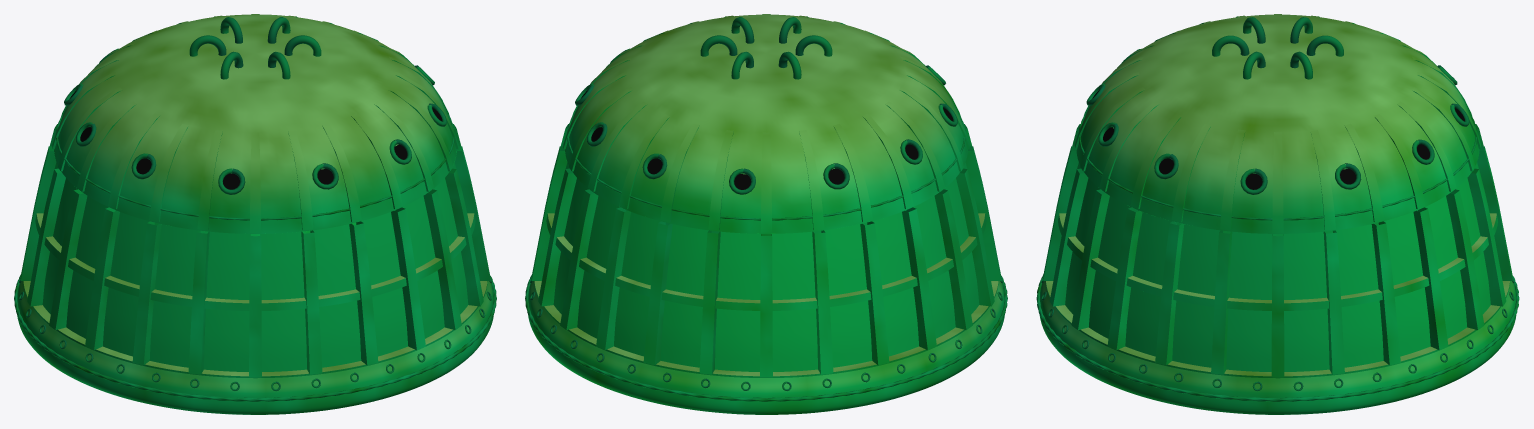
File: tamsule_bell.glb
3 views of the same model, side by side, from view 1: azimuth 30°, elevation 25°; view 2: azimuth 150°, elevation 25°; view 3: azimuth 270°, elevation 25° (orthographic).
Visible parts, largest first — view 1: tamsule_bell; view 2: tamsule_bell; view 3: tamsule_bell.
Part boxes in pixels (x1,y1,x2,y2): tamsule_bell: [14, 14, 496, 414]; tamsule_bell: [525, 14, 1007, 414]; tamsule_bell: [1036, 14, 1519, 414].
Size of what is drawn, in the model's own units: 36.65 by 23.55 by 36.67.
